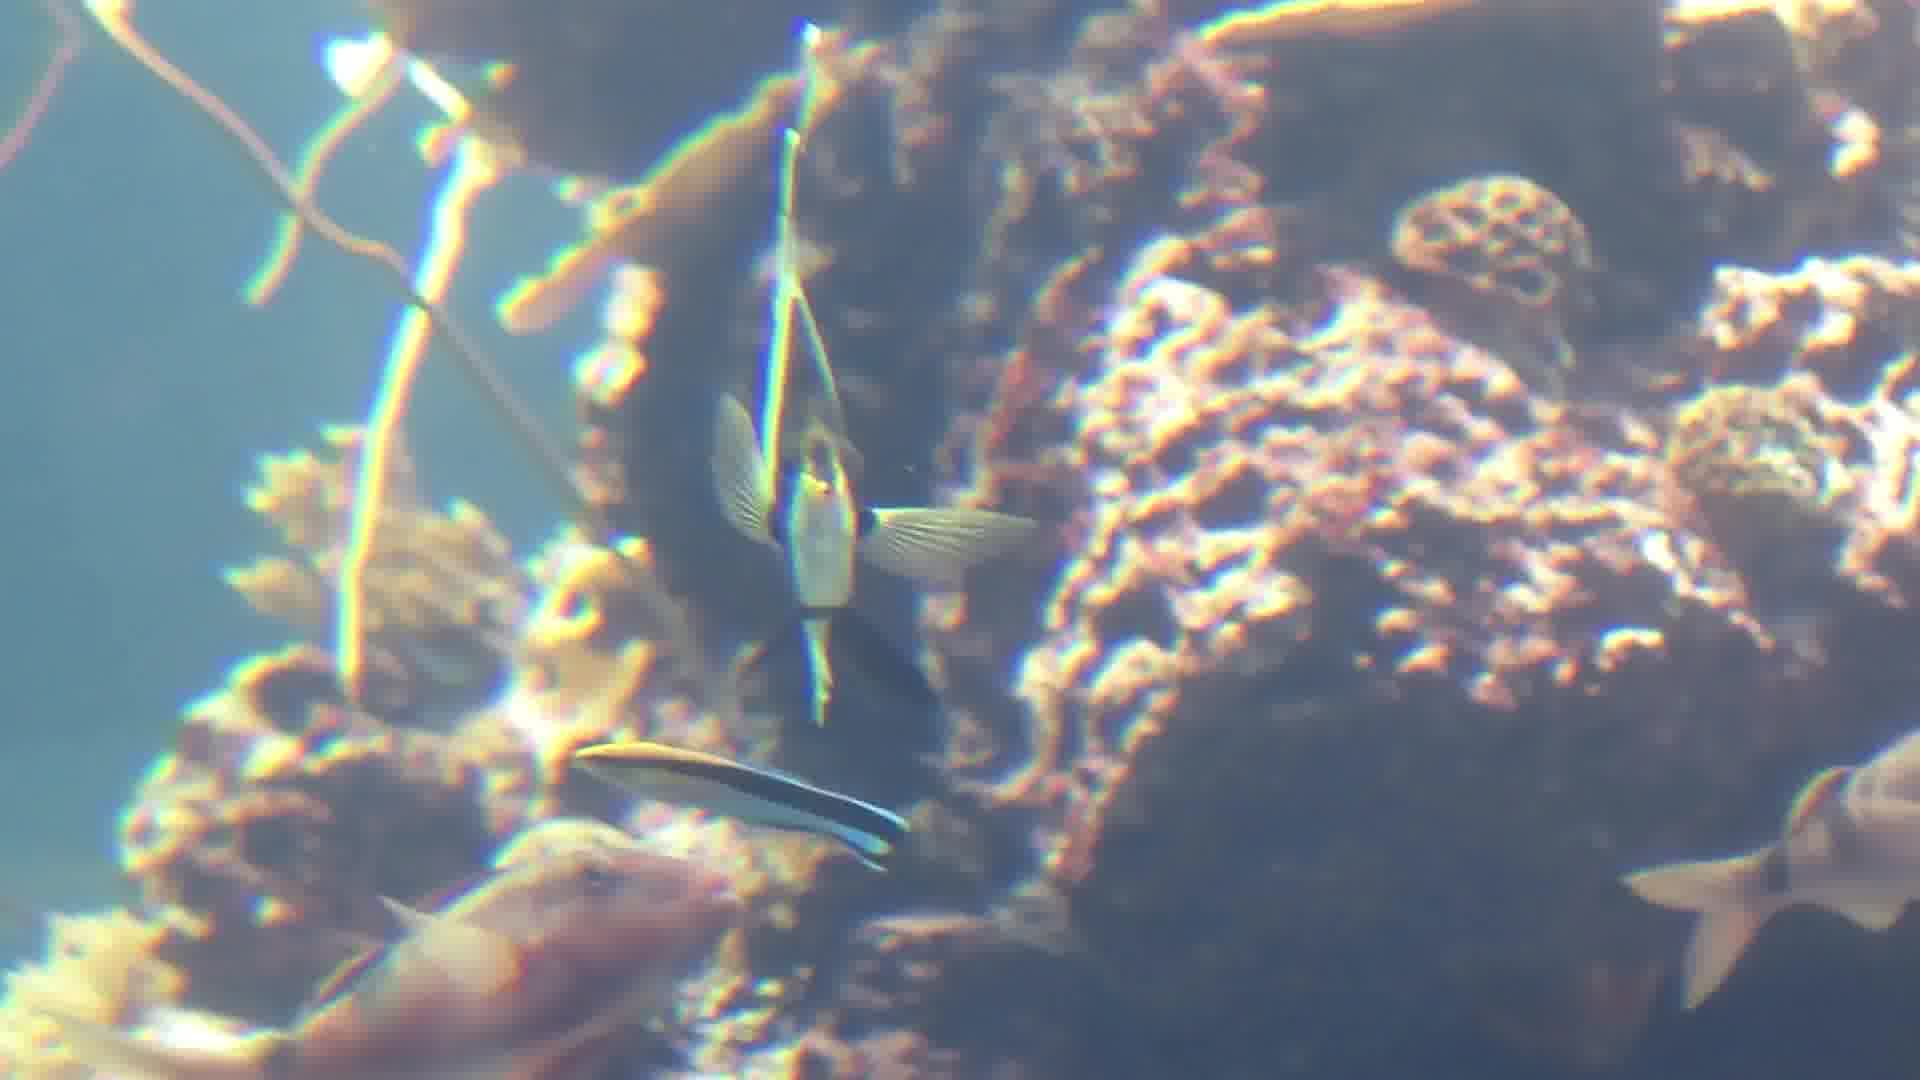Heniochus chrysostomus: (636, 26, 1056, 723)
